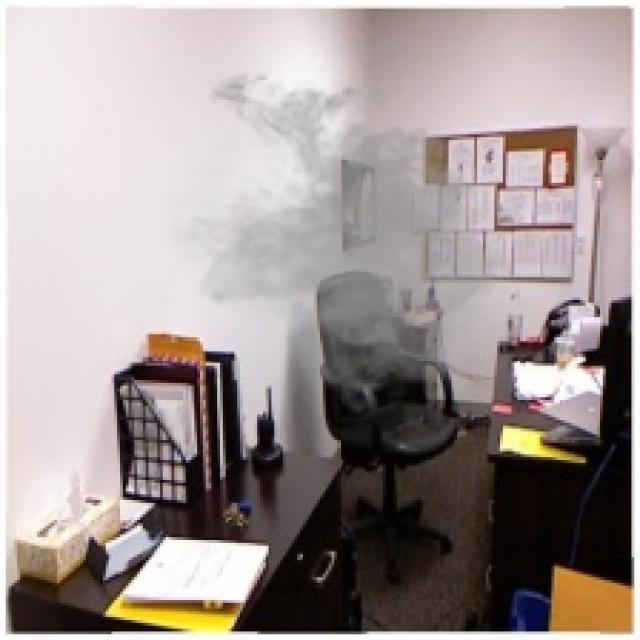Smoke: (145, 60, 526, 417)
